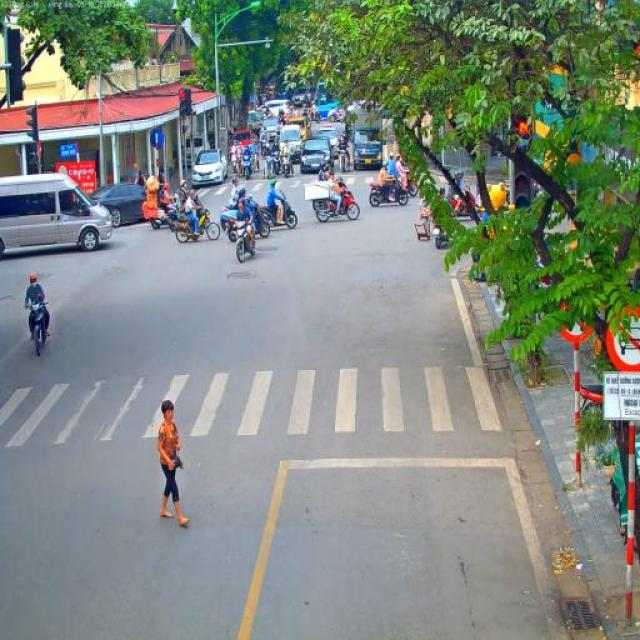bus: (0, 172, 114, 256), (310, 88, 340, 119)
car: (87, 182, 149, 228), (191, 148, 228, 188), (298, 137, 334, 174), (278, 124, 304, 164), (316, 126, 340, 160), (259, 117, 282, 147), (286, 115, 308, 146), (229, 129, 256, 153), (327, 101, 354, 123), (263, 104, 291, 124), (246, 110, 262, 130)
motorcycle: (219, 202, 271, 242), (176, 196, 220, 242), (310, 184, 360, 222), (252, 192, 298, 229), (428, 187, 478, 219), (226, 218, 258, 263), (26, 300, 50, 356), (368, 176, 410, 207), (148, 201, 180, 231), (392, 165, 420, 197), (432, 217, 453, 249), (280, 153, 295, 178), (338, 149, 352, 175), (243, 154, 256, 180), (260, 156, 274, 180), (231, 154, 243, 181), (248, 148, 262, 170), (473, 233, 483, 262), (271, 154, 283, 178), (258, 139, 270, 162), (306, 110, 316, 126), (314, 108, 320, 122)
truck: (351, 111, 394, 171), (283, 80, 308, 106)
